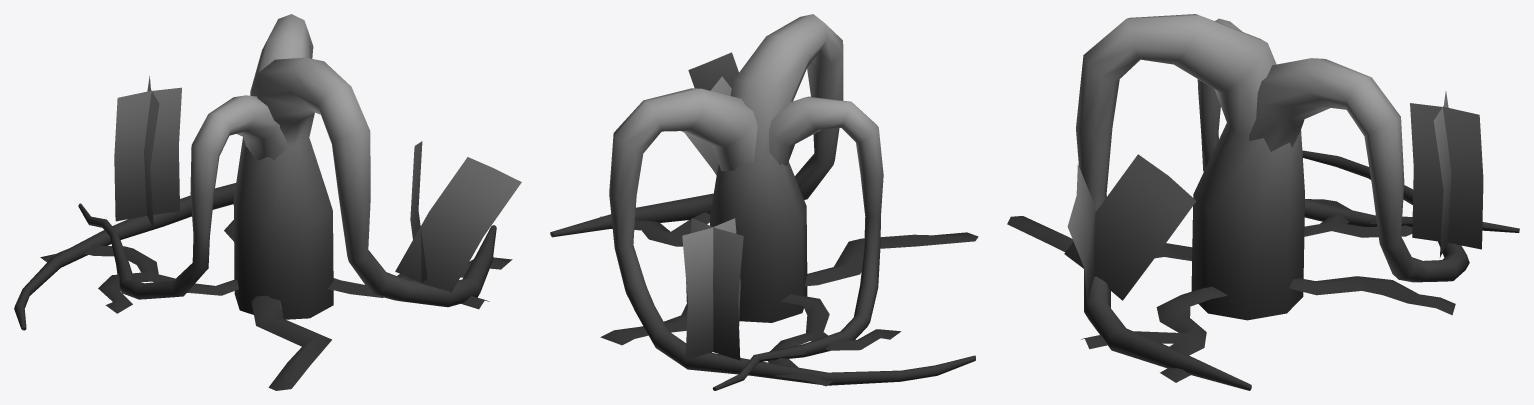
Rendered from CreeperGrowing_MESH_01.fbx.
The picture shows the model from 3 angles, left to right: view 1: azimuth 30°, elevation 25°; view 2: azimuth 150°, elevation 25°; view 3: azimuth 270°, elevation 25°; orthographic projection. The views are drawn at different scales.
Visible parts, largest first — view 1: CreeperGrowing_MESH_01; view 2: CreeperGrowing_MESH_01; view 3: CreeperGrowing_MESH_01.
Part boxes in pixels (bbox=[...]): CreeperGrowing_MESH_01: bbox=[14, 14, 521, 390]; CreeperGrowing_MESH_01: bbox=[550, 14, 978, 390]; CreeperGrowing_MESH_01: bbox=[1007, 14, 1519, 390].
Size of the model in its own units: 74.67 by 40.34 by 66.74.
